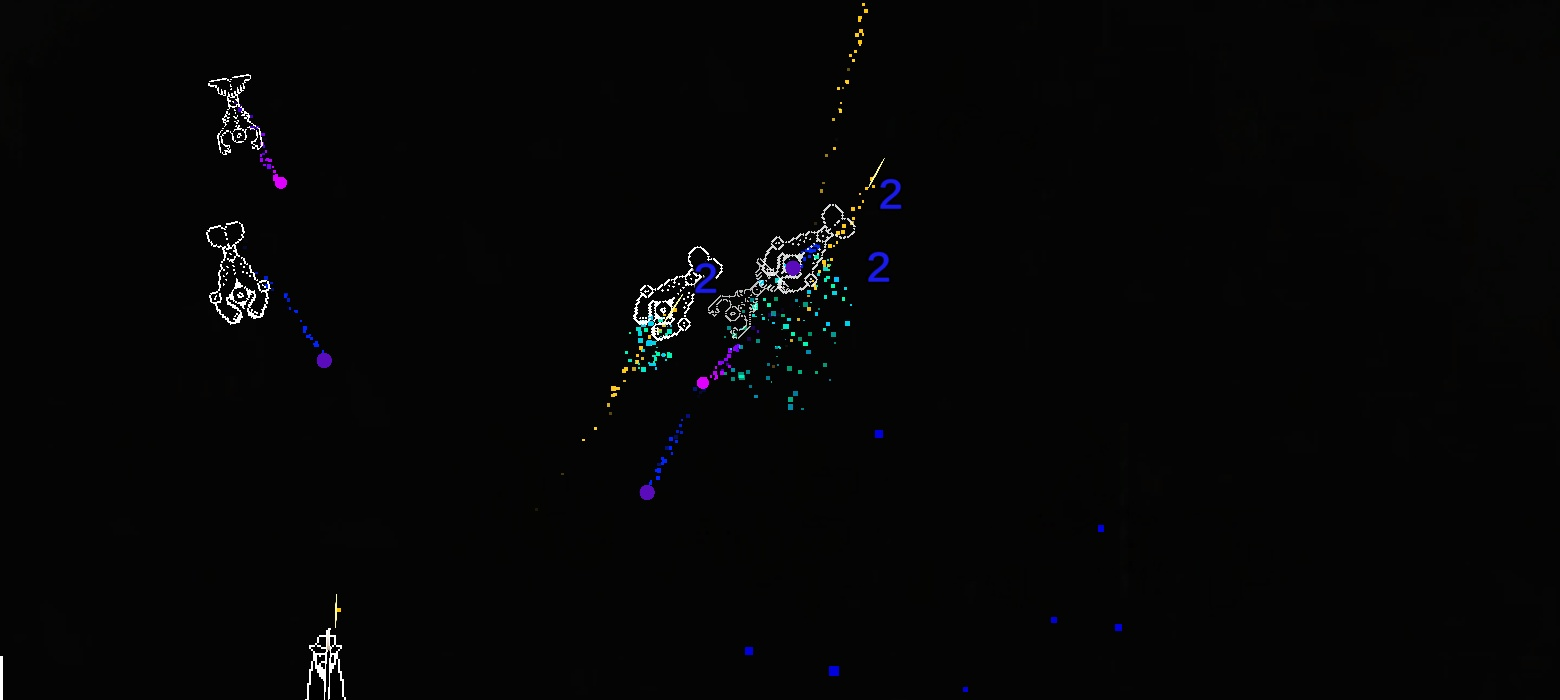enemy: (632, 245, 724, 342), (762, 203, 856, 294), (205, 220, 271, 326), (708, 258, 790, 340), (208, 73, 264, 156)
